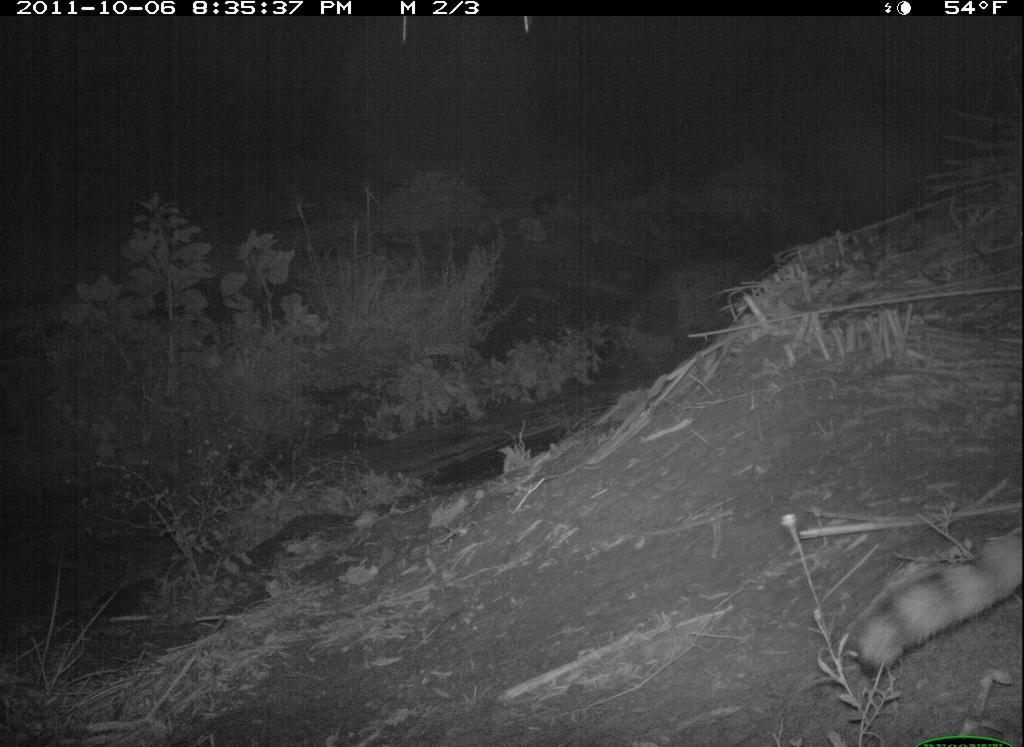raccoon: (832, 502, 1024, 678)
